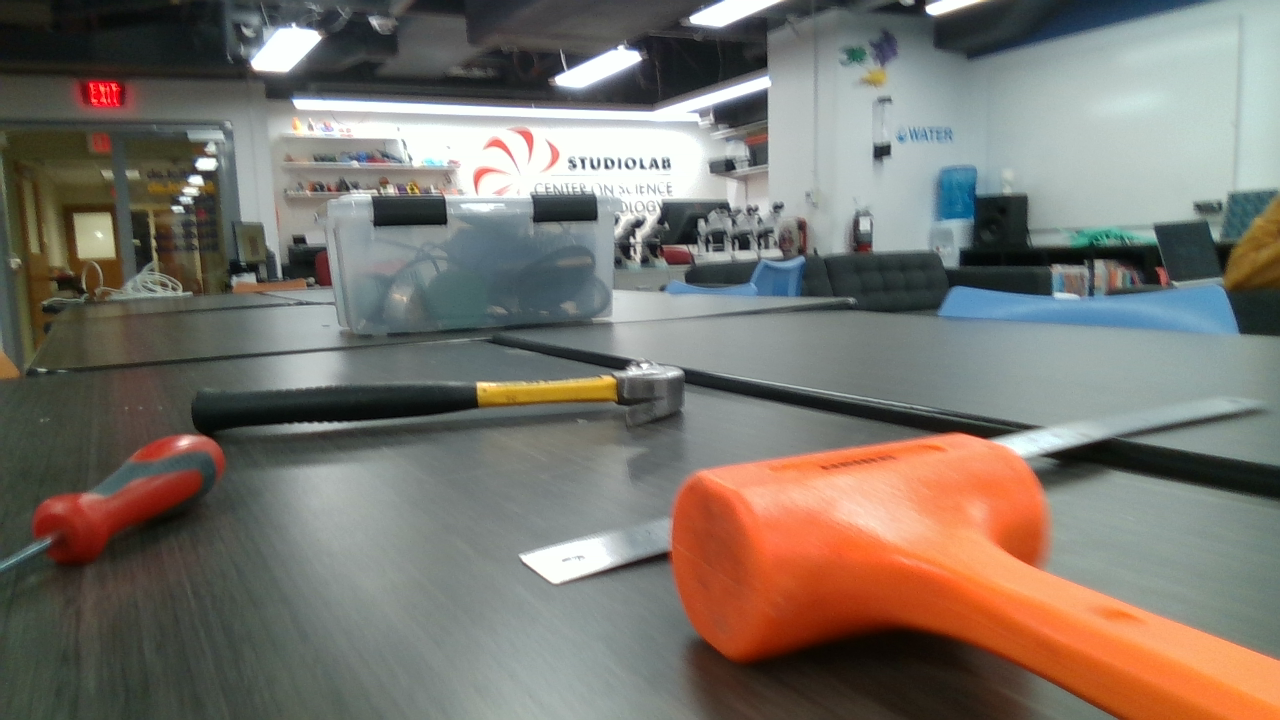Orange Hammer: (665, 429, 1280, 718)
